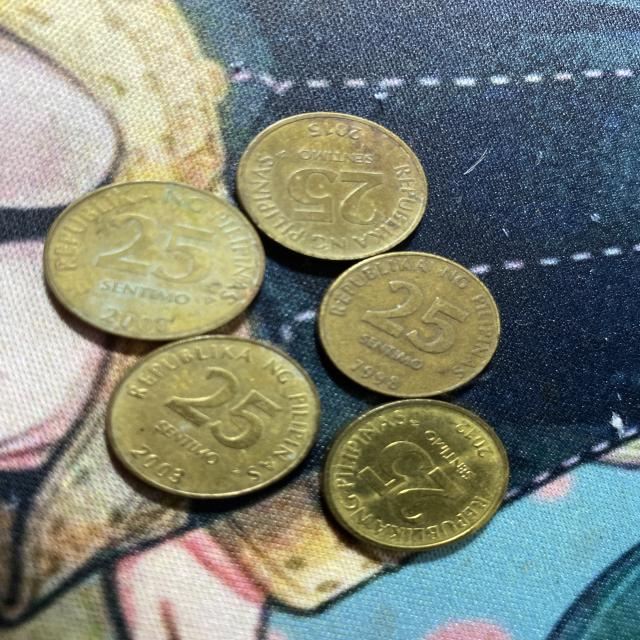25Cent_Old_Front: (94, 212, 223, 286), (171, 367, 280, 452), (359, 441, 462, 521), (366, 279, 466, 352), (289, 168, 390, 226)
